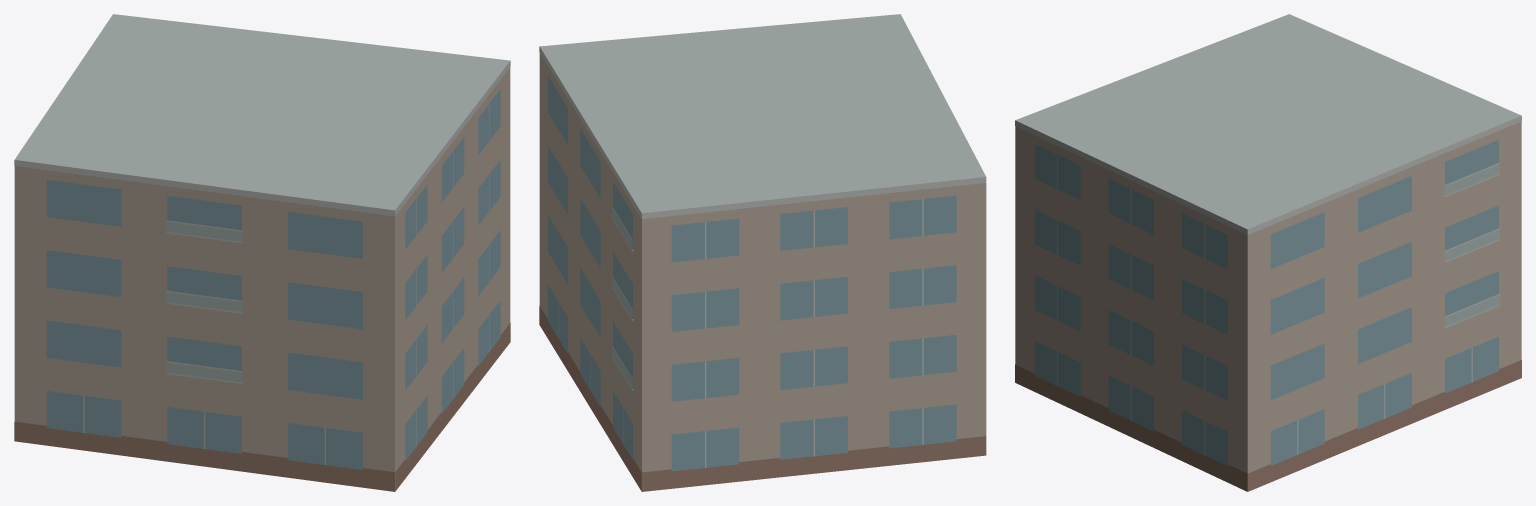
Rendered from survey-upis-32996381.glb.
3 views of the same model, side by side, from view 1: azimuth 30°, elevation 25°; view 2: azimuth 150°, elevation 25°; view 3: azimuth 270°, elevation 25° (orthographic). The views are drawn at different scales.
Visible parts, largest first — view 1: survey-upis-32996381.tmp; view 2: survey-upis-32996381.tmp; view 3: survey-upis-32996381.tmp.
Part boxes in pixels (<box>): survey-upis-32996381.tmp: <box>14,14,510,491</box>; survey-upis-32996381.tmp: <box>539,14,986,491</box>; survey-upis-32996381.tmp: <box>1015,14,1521,491</box>.
Bounding box in the file's own units: 20 × 11.35 × 19.87.
